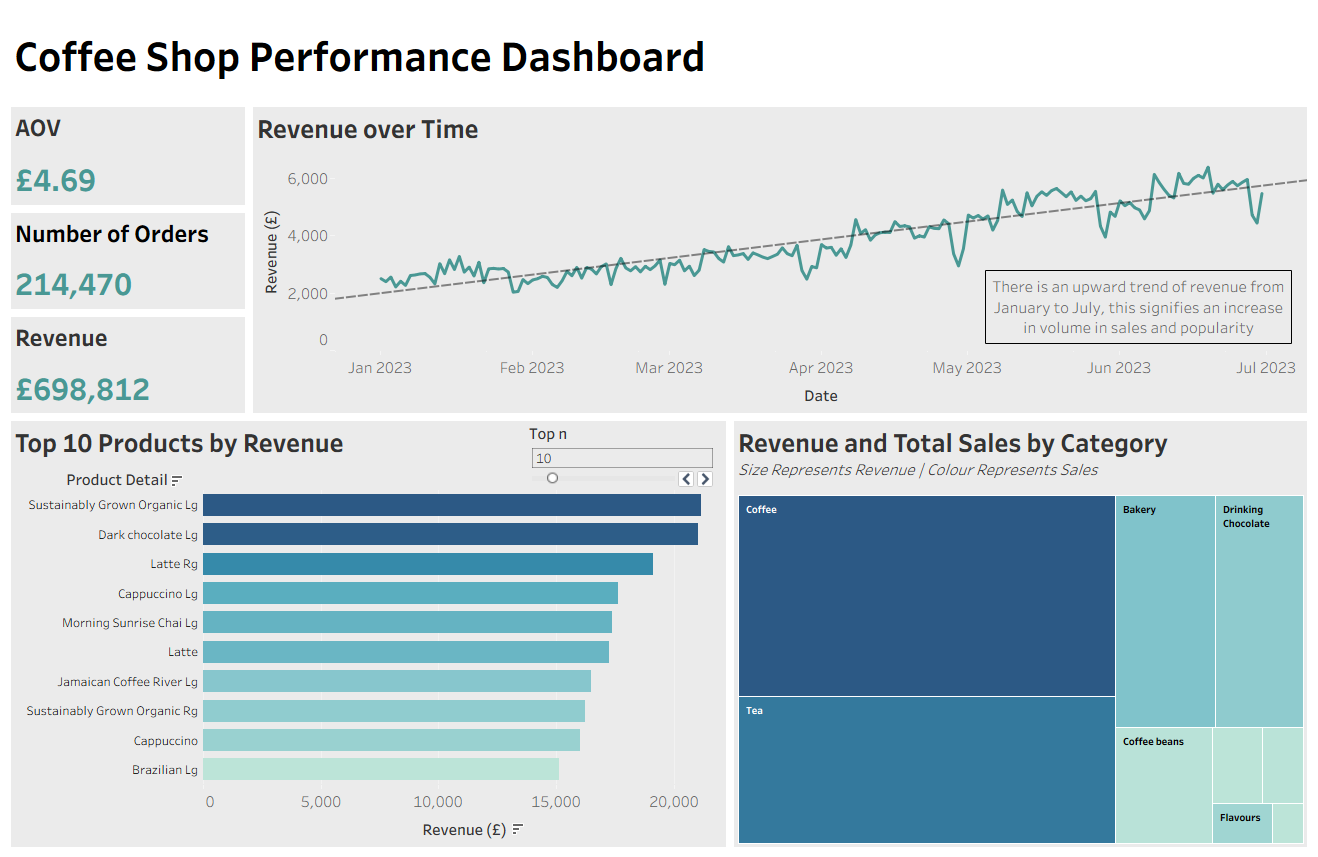

This screenshot's page, from the dashboard's own definition file:
{"tool":"tableau","page":{"name":"Dashboard 1","canvas":[1000,1000],"units":"permille","ordinal":0},"visuals":[{"type":"text","box":[6.1,9.3,987.9,111.6]},{"type":"worksheet","title":"AOV","mark":"Automatic","box":[6.1,120.9,183.3,123.2]},{"type":"worksheet","title":"Revenue over Time","mark":"Line","rows":["Calculation_4284851545694209"],"cols":["transaction_date"],"box":[189.4,120.9,804.6,365.1]},{"type":"worksheet","title":"Orders","mark":"Automatic","box":[6.1,244.2,183.3,120.9]},{"type":"text","box":[747,315.1,232.6,86]},{"type":"worksheet","title":"Revenue","mark":"Automatic","box":[6.1,365.1,183.3,120.9]},{"type":"worksheet","title":"Top Products by Revenue","mark":"Automatic","rows":["product_detail"],"cols":["Calculation_4284851545694209"],"box":[6.1,486.1,547.7,504.7]},{"type":"worksheet","title":"Revenue and Total Sales by Category","mark":"Automatic","box":[553.8,486.1,440.2,504.7]},{"type":"parameter","param":"[Parameters].[Parameter 1]","box":[401.5,493,141.7,82.6]}]}

Visuals, with their boxes on the dashboard's canvas, which has no fixed pixel size, in thousandths of its width and height (x1, y1, x2, y2). These are canvas units, not pixel positions in the 1318x857 screenshot, which may show the page scaled, cropped or inside an application window:
text: BBox(6, 9, 994, 121)
"AOV" worksheet: BBox(6, 121, 189, 244)
"Revenue over Time" worksheet (Line marks): BBox(189, 121, 994, 486)
"Orders" worksheet: BBox(6, 244, 189, 365)
text: BBox(747, 315, 980, 401)
"Revenue" worksheet: BBox(6, 365, 189, 486)
"Top Products by Revenue" worksheet: BBox(6, 486, 554, 991)
"Revenue and Total Sales by Category" worksheet: BBox(554, 486, 994, 991)
parameter: BBox(402, 493, 543, 576)
